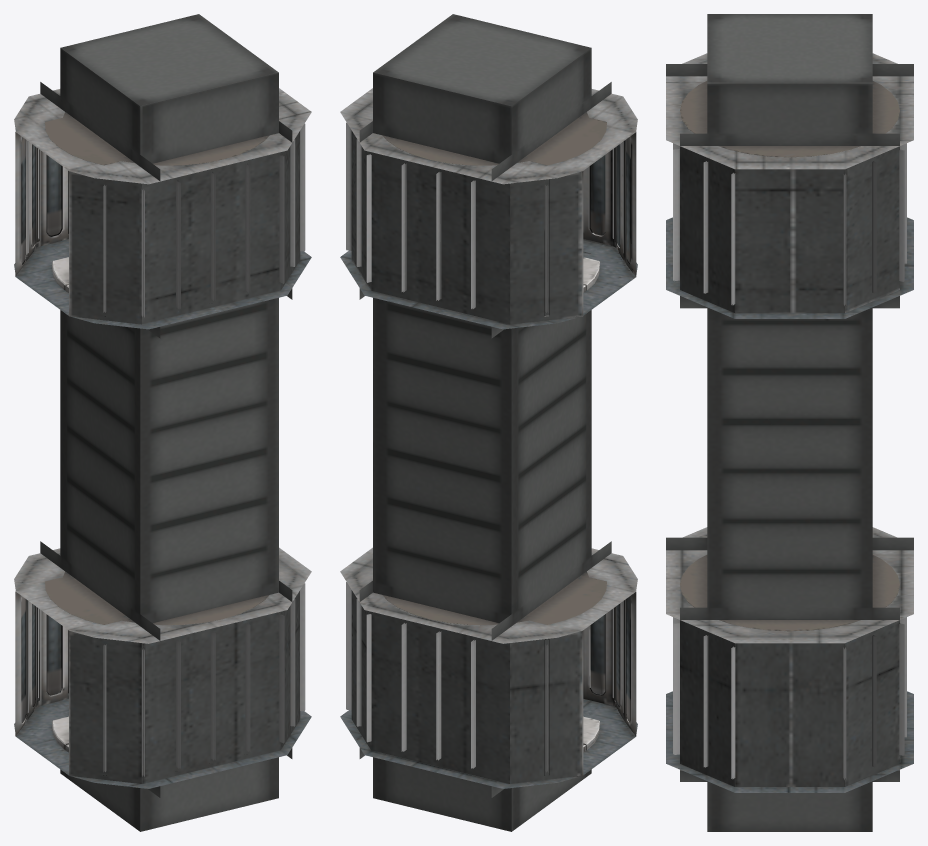
File: elevator_exit.obj
3 renders of one model, left to right at view 1: azimuth 30°, elevation 25°; view 2: azimuth 150°, elevation 25°; view 3: azimuth 270°, elevation 25°, orthographic. The views are drawn at different scales.
Parts seen in each view (by area): view 1: elevator_shaft.mdl/elevator_shaft.smd; view 2: elevator_shaft.mdl/elevator_shaft.smd; view 3: elevator_shaft.mdl/elevator_shaft.smd.
Boxes of the visible parts, x1=… form: elevator_shaft.mdl/elevator_shaft.smd: x1=14, y1=14, x2=311, y2=831; elevator_shaft.mdl/elevator_shaft.smd: x1=340, y1=14, x2=637, y2=831; elevator_shaft.mdl/elevator_shaft.smd: x1=666, y1=14, x2=913, y2=831.
Size of the model in its own units: 5.26 by 15 by 4.5.
